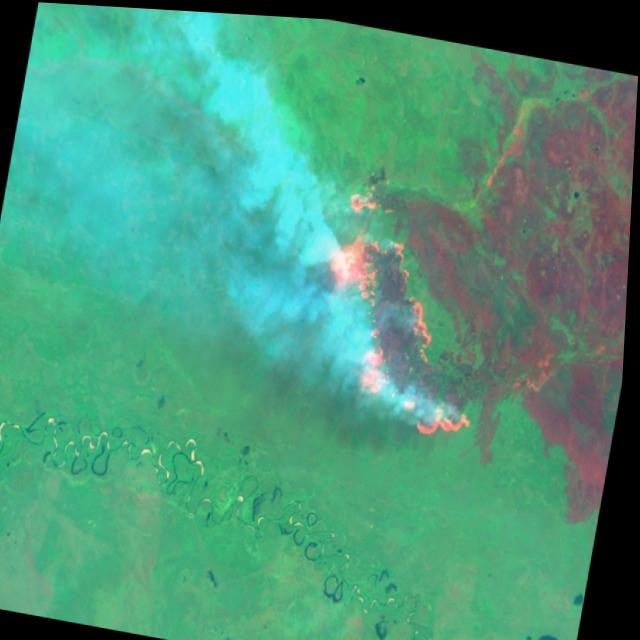fire: (300, 165, 515, 447)
